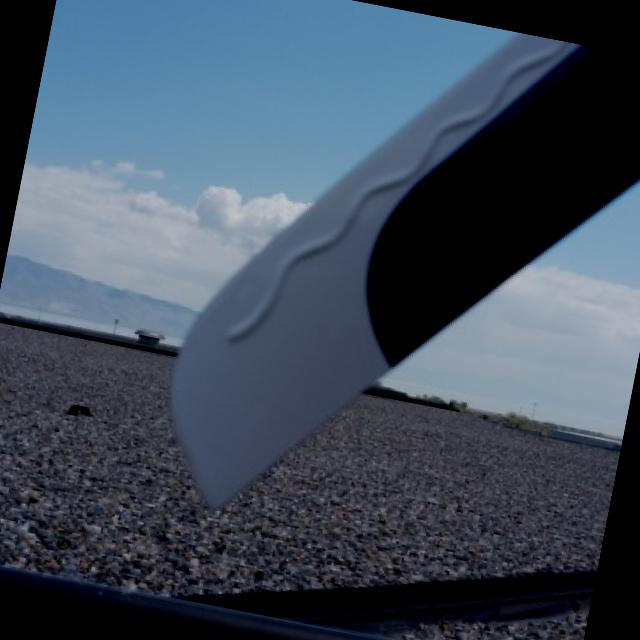healthy: (174, 34, 640, 506)
